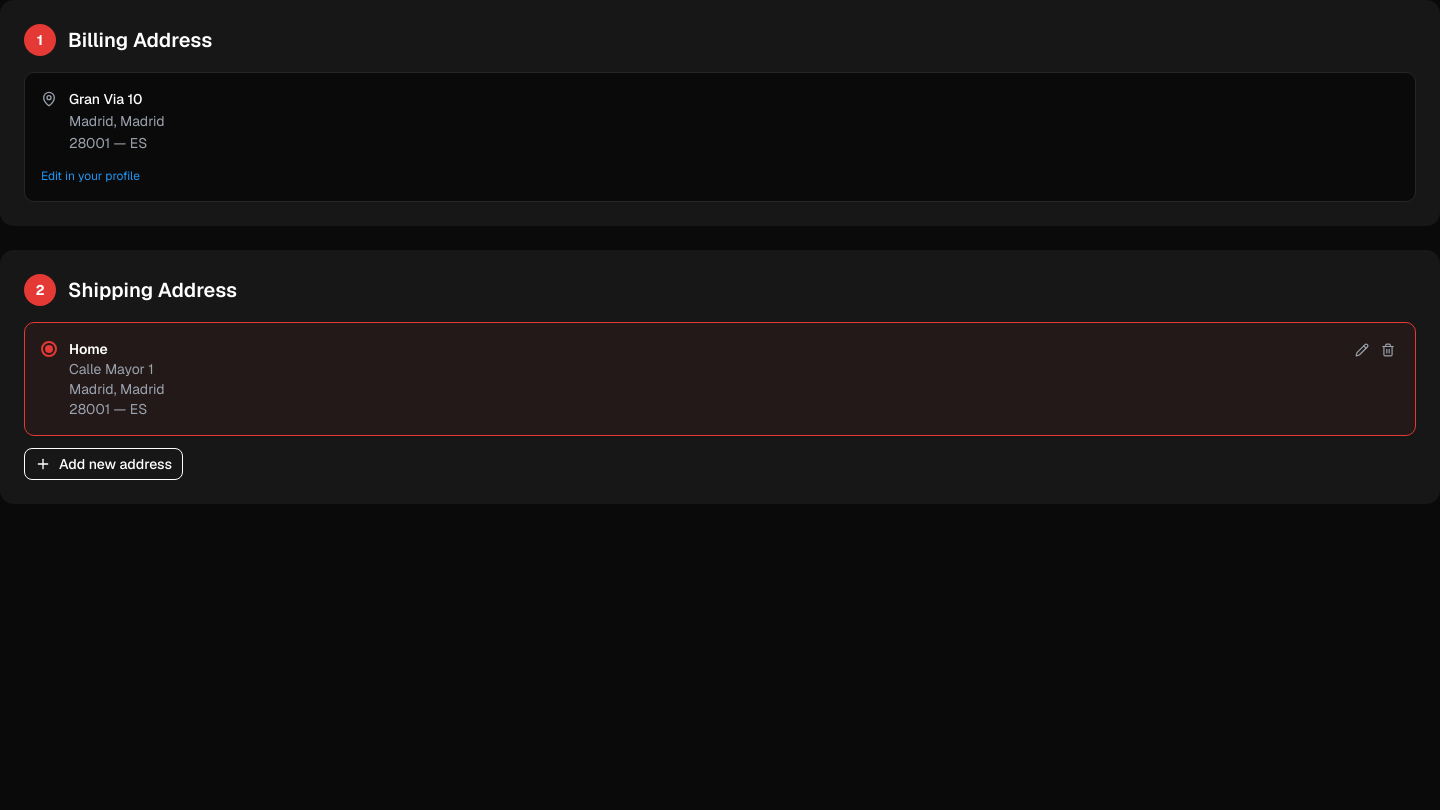
Test: AddressSection › add address modal › opens the modal when 'Add new address' is clicked
Click the button "Add new address": (104, 464) left=24, top=448, right=183, bottom=480
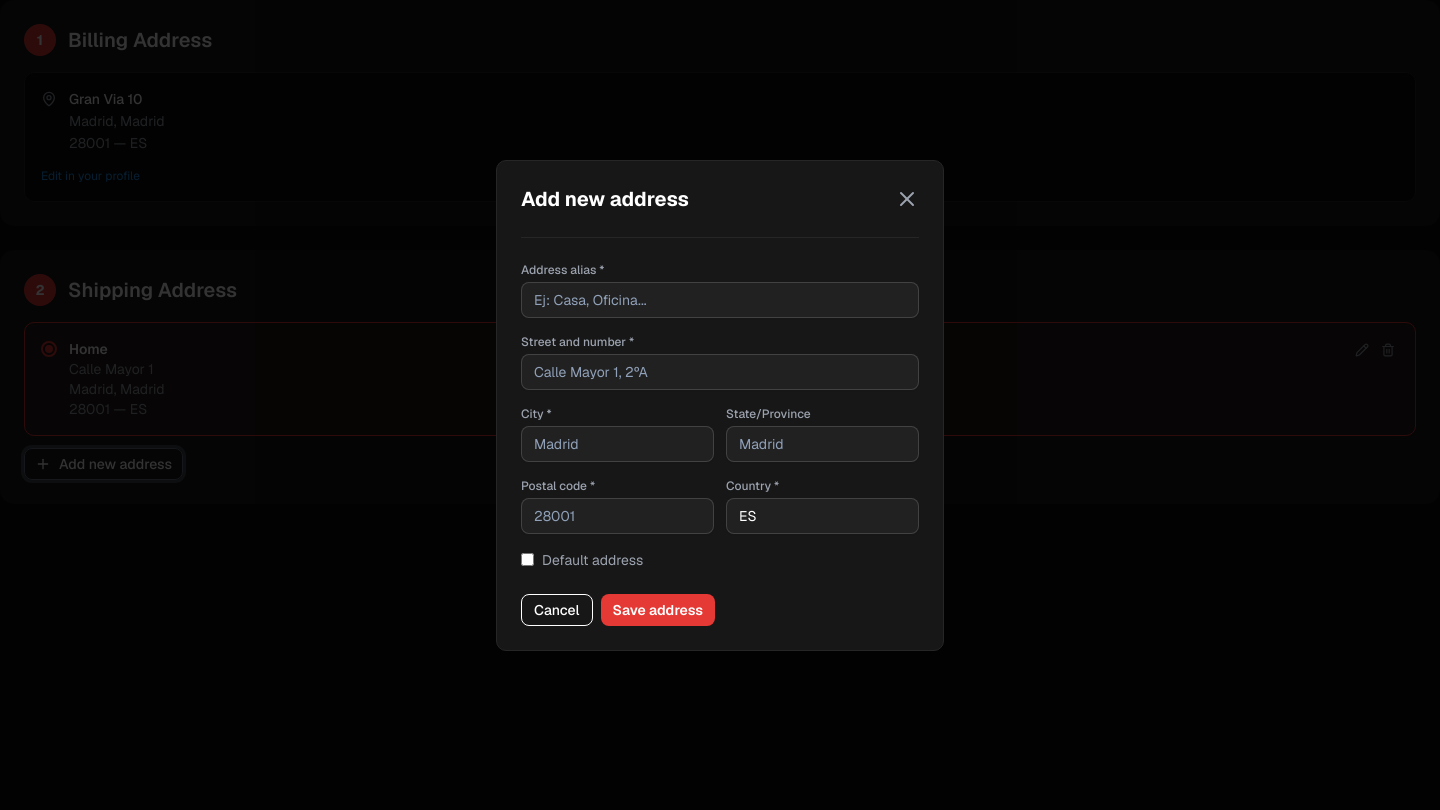
expect the button "Save address" is shown: met, box left=601, top=594, right=715, bottom=626
